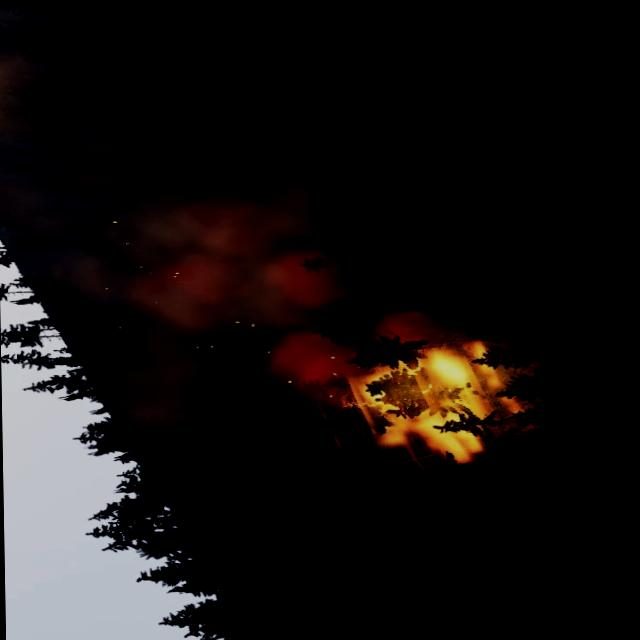fire: (351, 338, 532, 466)
smoke: (14, 169, 394, 430), (0, 30, 160, 229)
